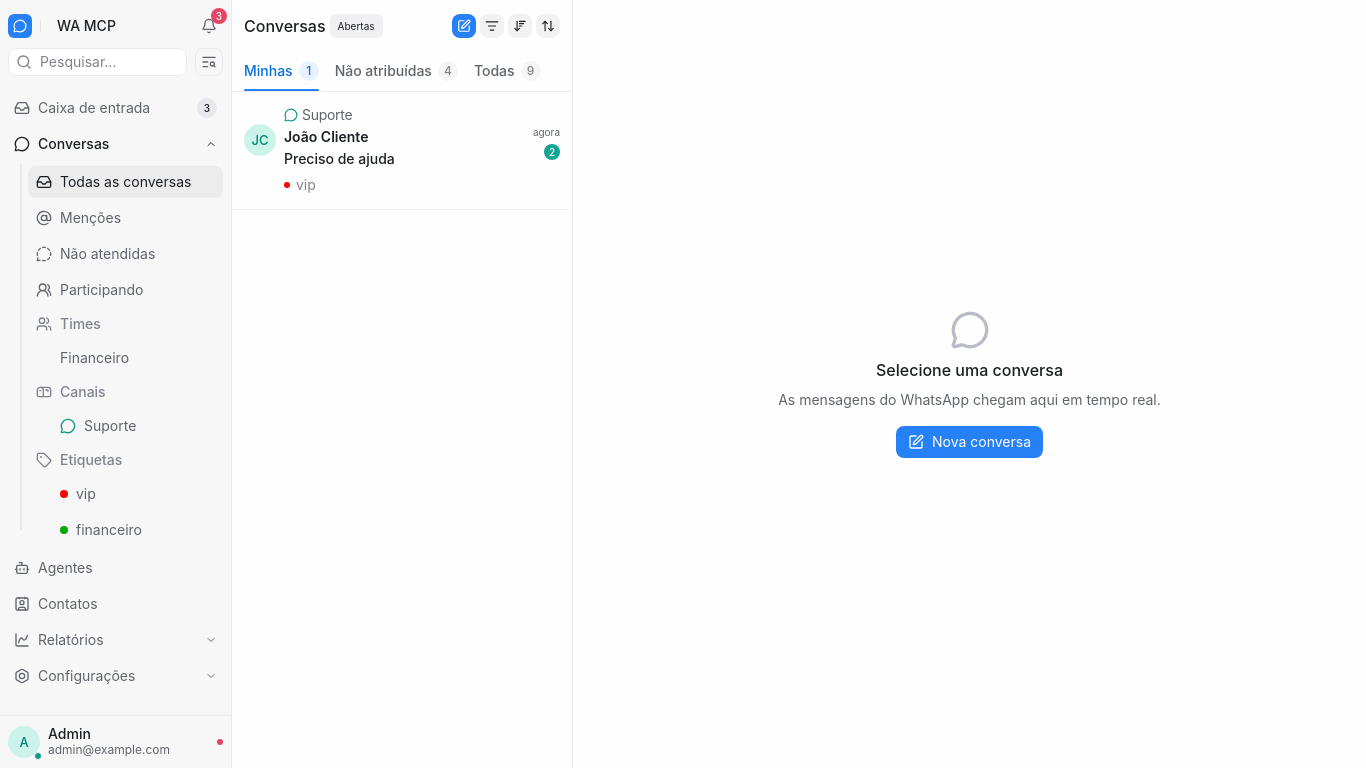
Test: global search › opens from the sidebar and Ctrl+K and navigates to the contact
Expected: the heading "Conversas" is shown, [244,14,326,38]
Click the button named "Pesquisa global". click: [209, 62]
box: [195,48,223,76]
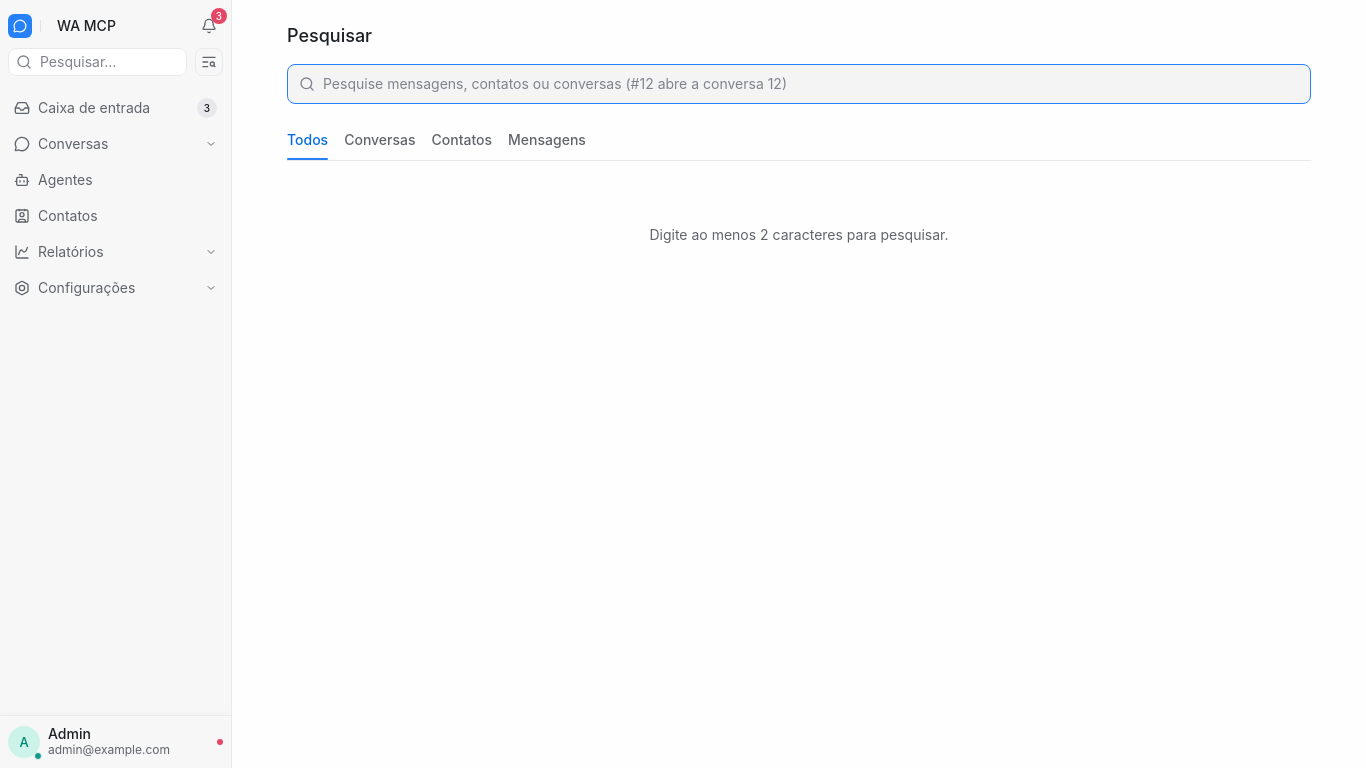
Now the heading "Pesquisar" is shown, box [287,25,372,46]
Click the button "Contatos". click: [116, 216]
box: [8,200,223,232]
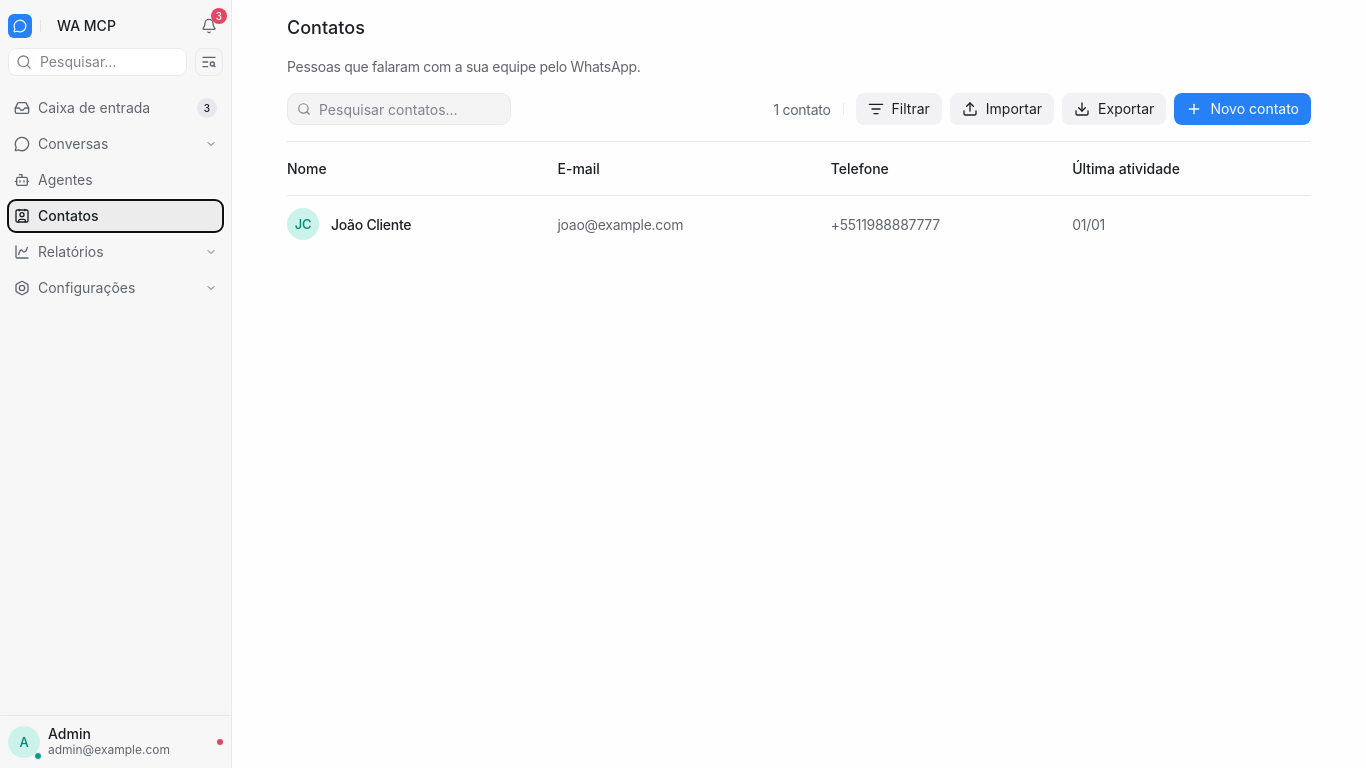
Now the heading "Contatos" is shown, box [287,17,365,38]
Type keys "{Control>}k{/Control}"
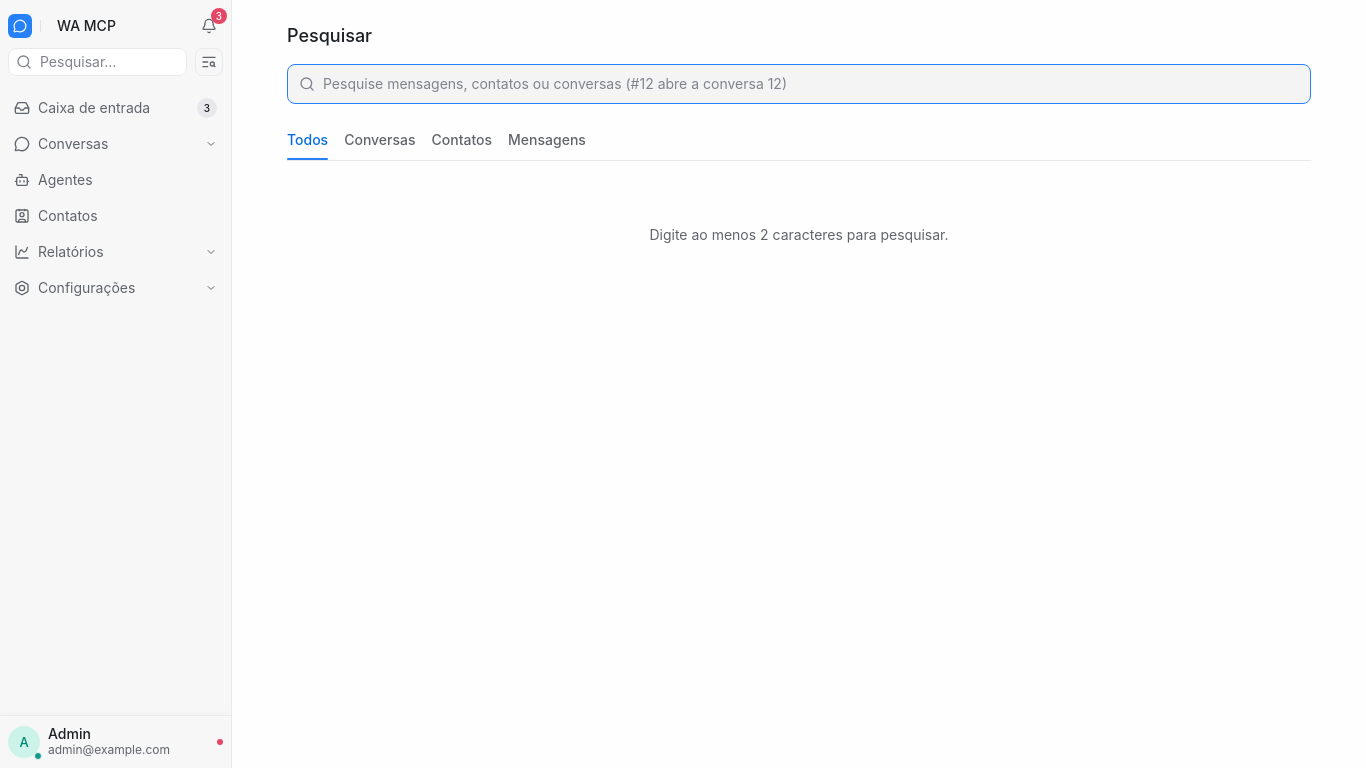
Type "joão" into the field named "Pesquisar mensagens, contatos ou conversas". click: [811, 84]
box: [323,74,1299,94]
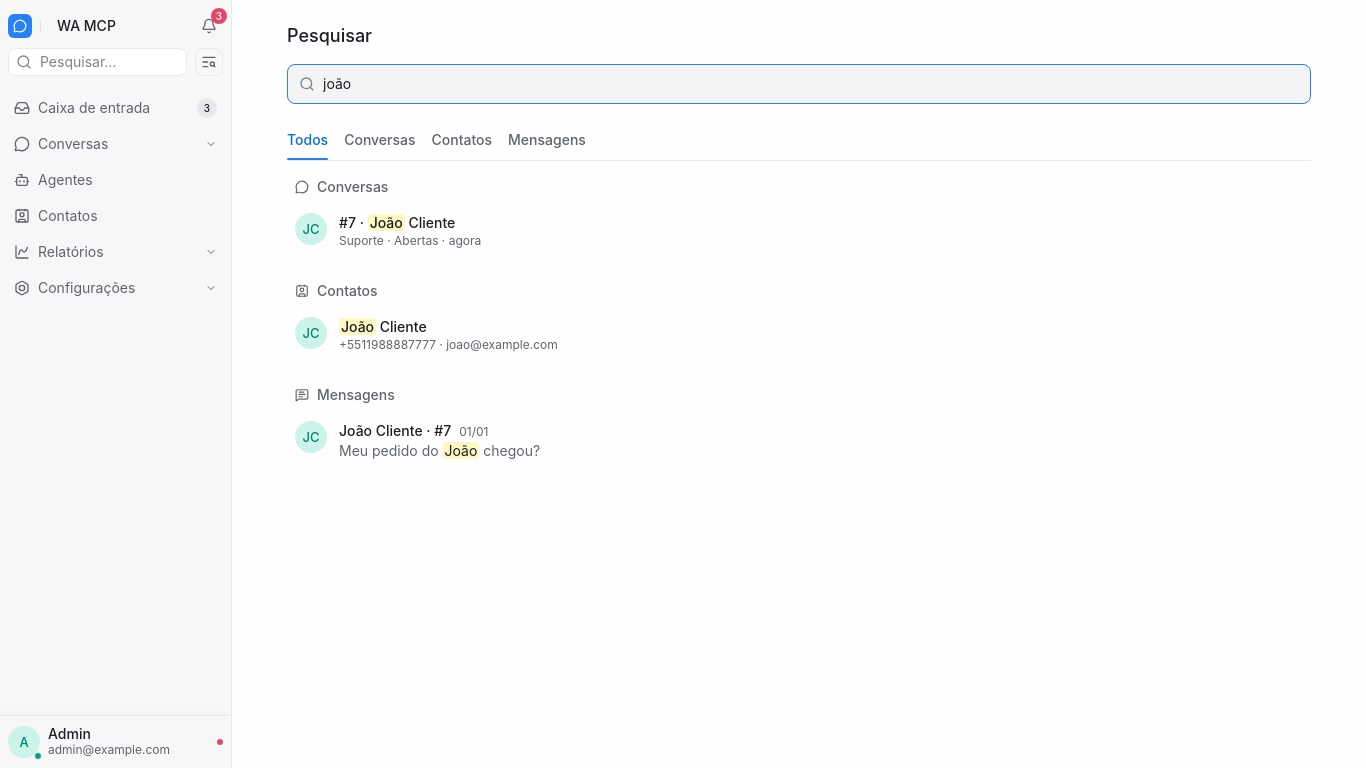
Click the button that starts with "João". click: [311, 333]
box: [287,309,1311,361]
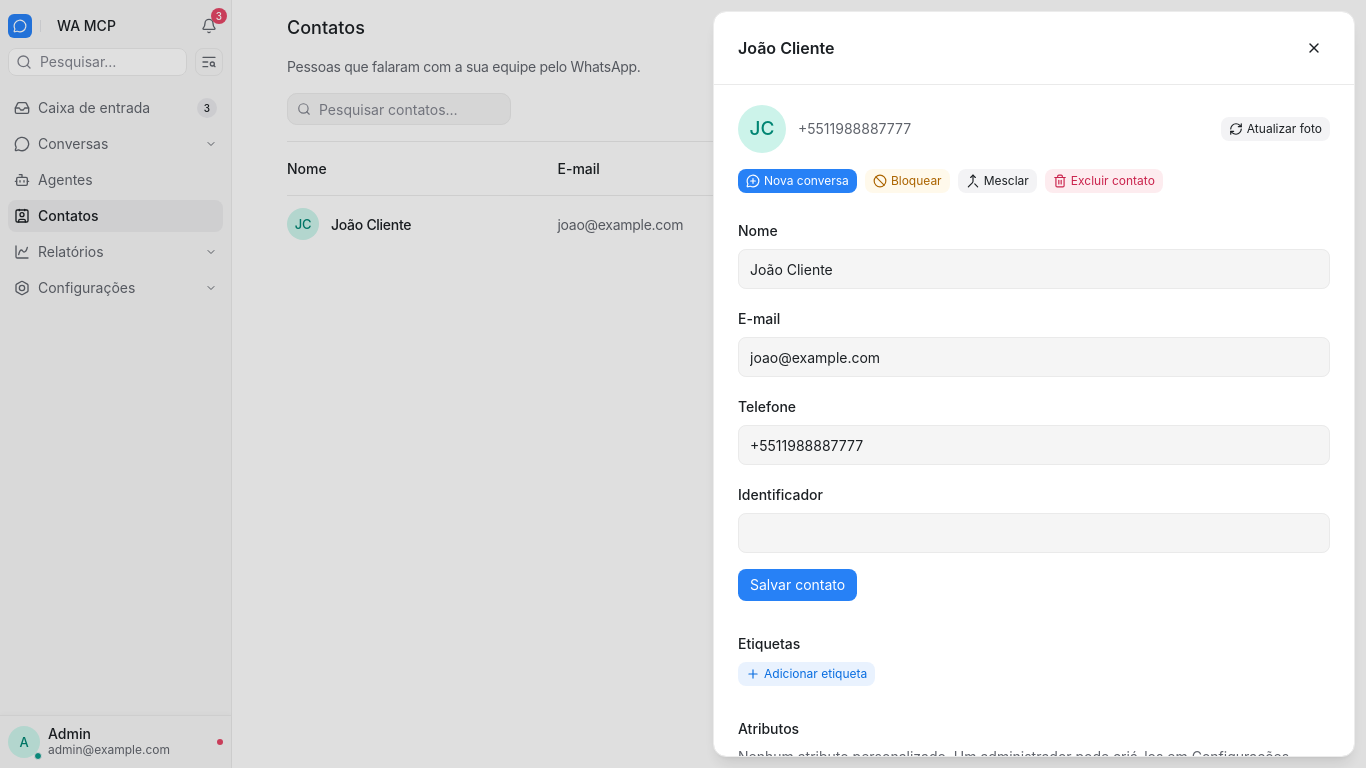
Now the dialog "João Cliente" is shown, box [714,12,1354,756]
